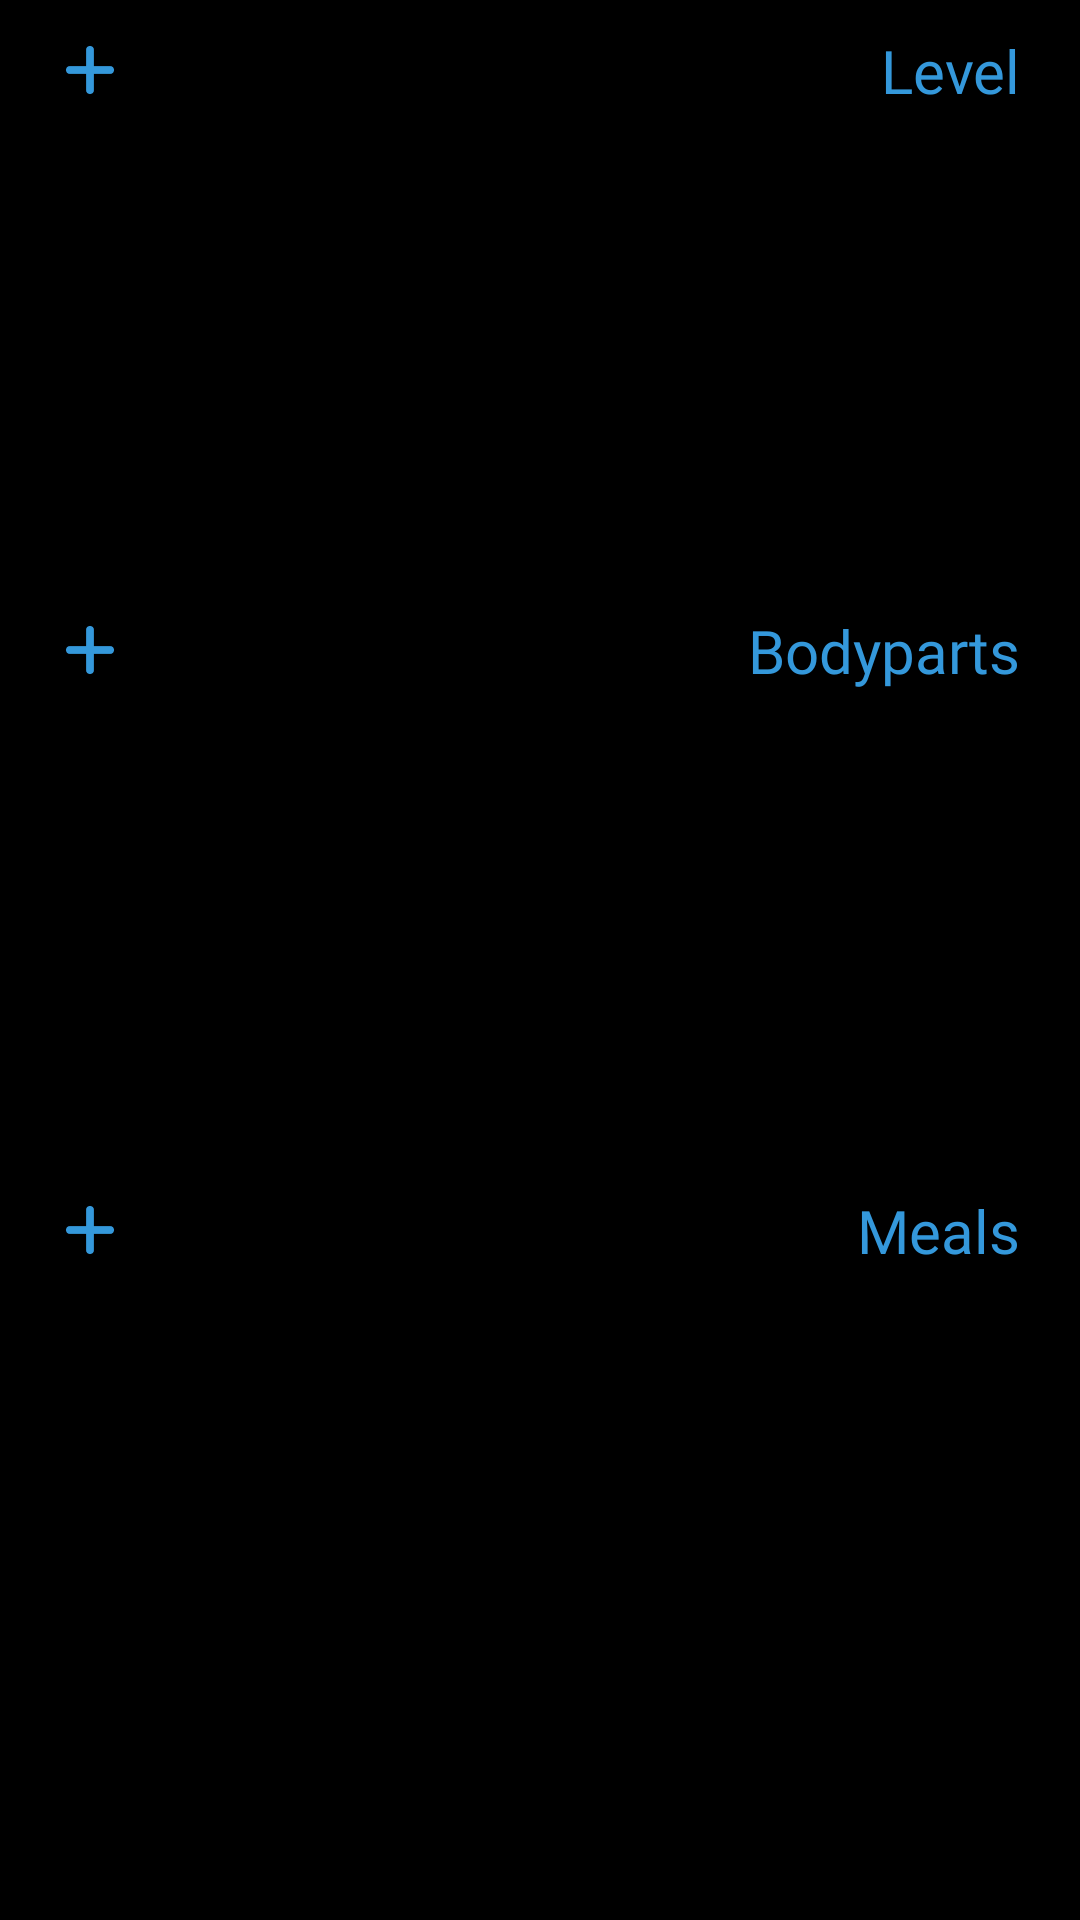

Icon bounding boxes for this 1080 x 1920 phone screenshot, format [left=x1, top=y1, right=x2, bottom=y2]:
plus: [left=66, top=46, right=114, bottom=94], [left=66, top=626, right=114, bottom=674], [left=66, top=1206, right=114, bottom=1254]
